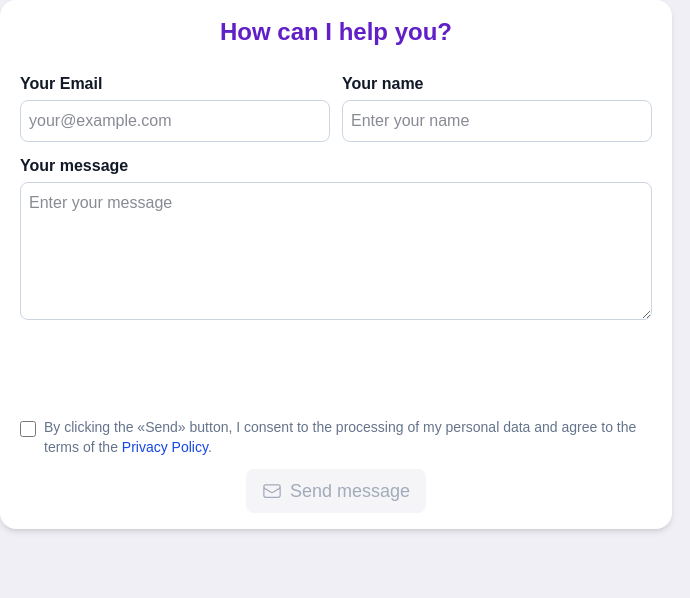
it: ContactForm › shows field validation errors instead of submitting when fields are empty
# Give consent so the button is enabled, but leave the fields empty.
Click the checkbox: {"x": 28, "y": 429} [20,421,36,437]
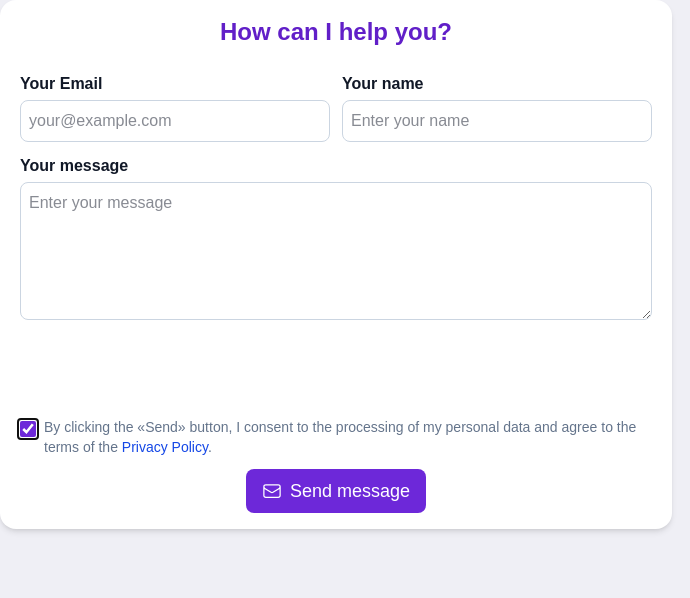
Click the button "Send message": {"x": 336, "y": 491} [246,469,426,513]
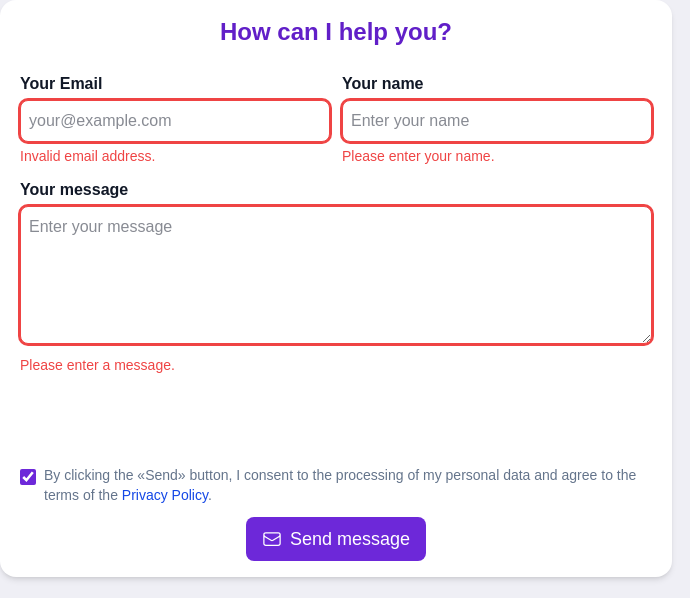
Expected: the text "Invalid email address." is shown, [20,148,155,164]
Expected: the text "Please enter your name." is shown, [342,148,494,164]
Expected: the text "Please enter a message." is shown, [20,357,175,373]
# Typing into a field clears its error.
In the field labelled "Your name": {"x": 497, "y": 121} [342,100,652,142], type "John"
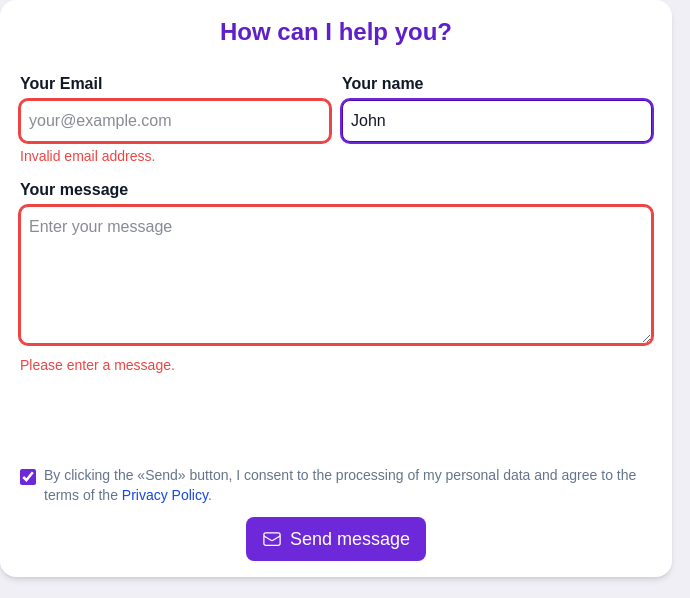
Expected: the text "Please enter your name." is gone
